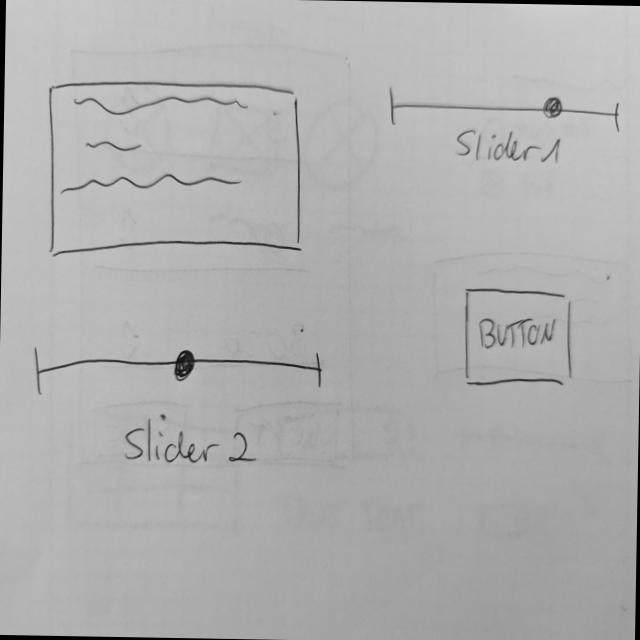button: (462, 282, 578, 395)
label: (122, 414, 260, 476), (452, 126, 570, 163)
slider: (30, 340, 331, 408), (384, 84, 626, 135)
textbox: (45, 77, 309, 264)
